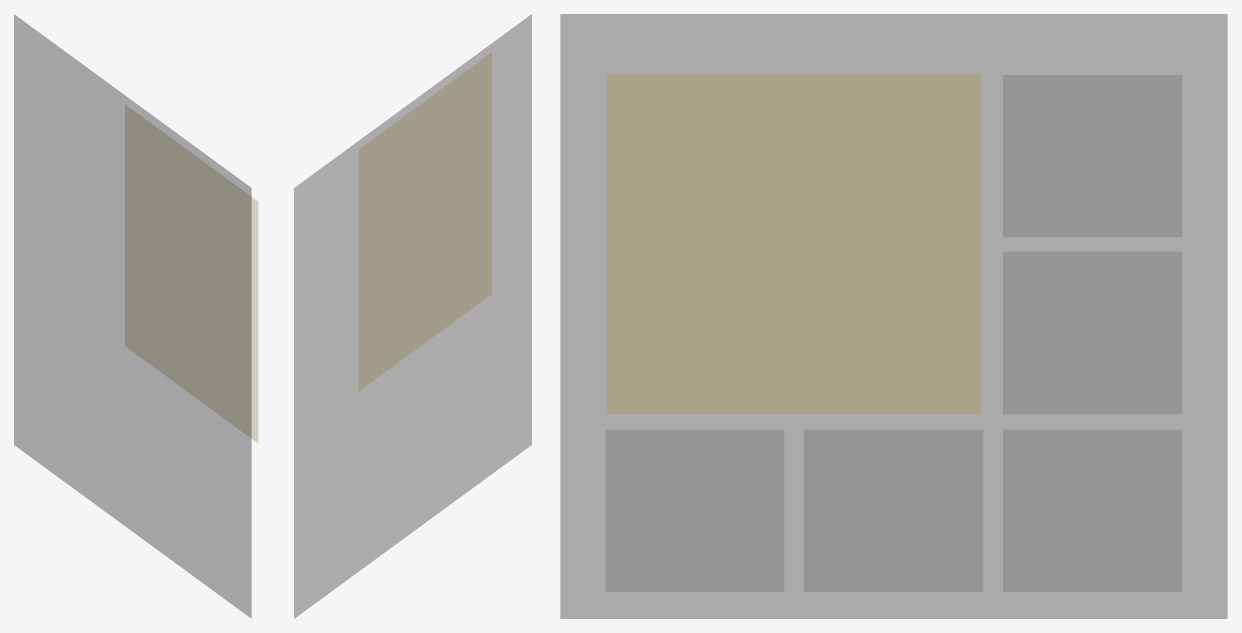
Rendered from btn_rent2x2NorthWest.gltf.
3 renders of one model, left to right at view 1: azimuth 30°, elevation 25°; view 2: azimuth 150°, elevation 25°; view 3: azimuth 270°, elevation 25°, orthographic. The views are drawn at different scales.
Visible parts, largest first — view 1: 1x1BgBorder.018, 22LandTile.003; view 2: 1x1BgBorder.018, 22LandTile.003; view 3: 1x1BgBorder.018, 22LandTile.003, 23LandTile.004, 13LandTile.007, 31LandTile.005, 32LandTile.005, 33LandTile.007.
Part boxes in pixels (x1,y1,x2,y2): 1x1BgBorder.018: (14,14,251,618); 22LandTile.003: (125,105,257,442); 1x1BgBorder.018: (294,14,531,618); 22LandTile.003: (359,53,491,389); 1x1BgBorder.018: (560,14,1227,618); 22LandTile.003: (607,74,981,413); 23LandTile.004: (1003,251,1182,414); 13LandTile.007: (1003,75,1182,237); 31LandTile.005: (605,429,784,591); 32LandTile.005: (804,429,983,591); 33LandTile.007: (1003,429,1182,591).
Size of what is drawn, in the model's own units: 0.0112 by 0.1984 by 0.1984.
2 materials, 1 textured.
